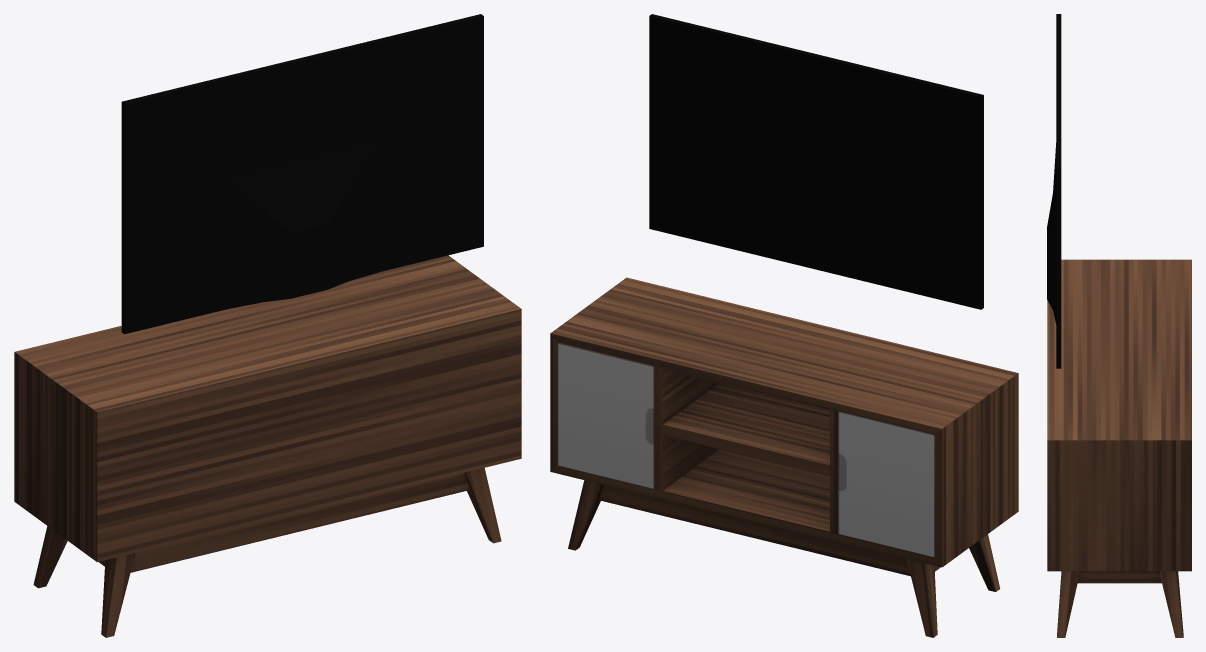
Rendered from ELT0110049.fbx.
3 renders of one model, left to right at view 1: azimuth 30°, elevation 25°; view 2: azimuth 150°, elevation 25°; view 3: azimuth 270°, elevation 25°, orthographic. The views are drawn at different scales.
Visible parts, largest first — view 1: smELT0110049; view 2: smELT0110049; view 3: smELT0110049.
Boxes of the visible parts, bbox=[...] form: smELT0110049: bbox=[14, 14, 521, 637]; smELT0110049: bbox=[550, 14, 1018, 637]; smELT0110049: bbox=[1047, 14, 1191, 637].
Size of the model in its own units: 151 by 180 by 50.94.
1 material, 1 textured.
